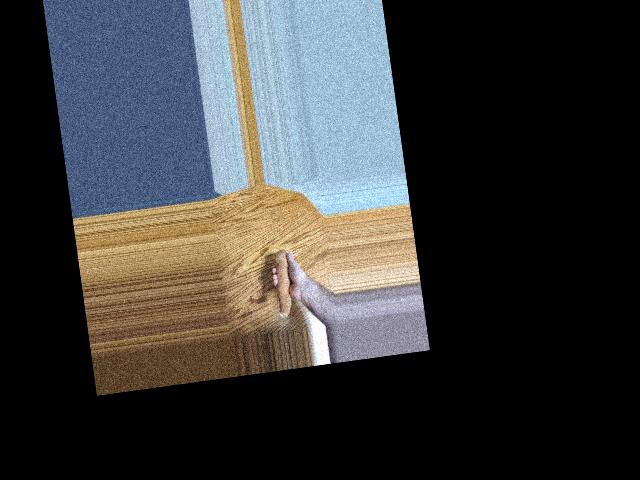sweet_potato: (272, 250, 301, 319)
